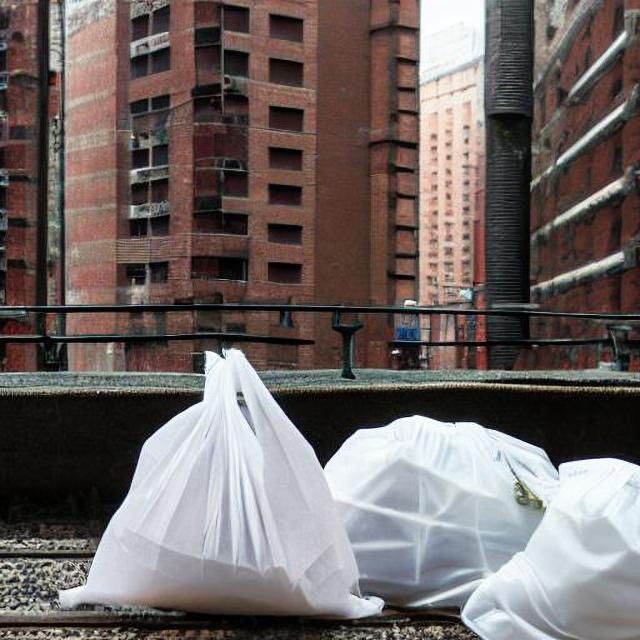plastic bag: (78, 343, 370, 614), (312, 411, 640, 640)
